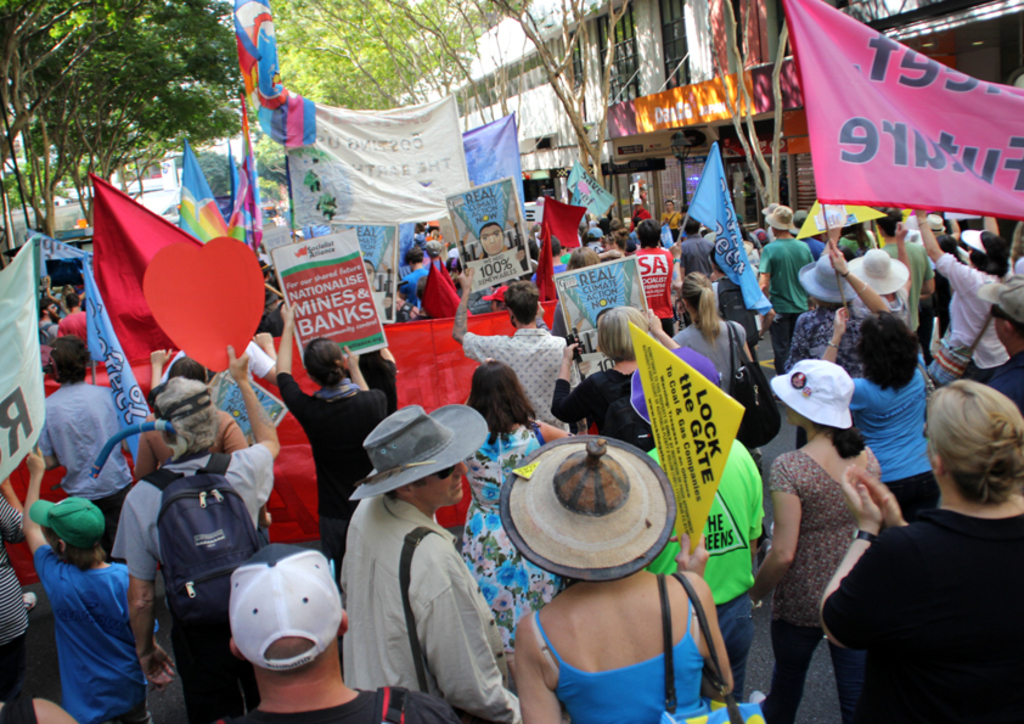Human-face: (407, 461, 469, 504), (478, 225, 503, 254)
